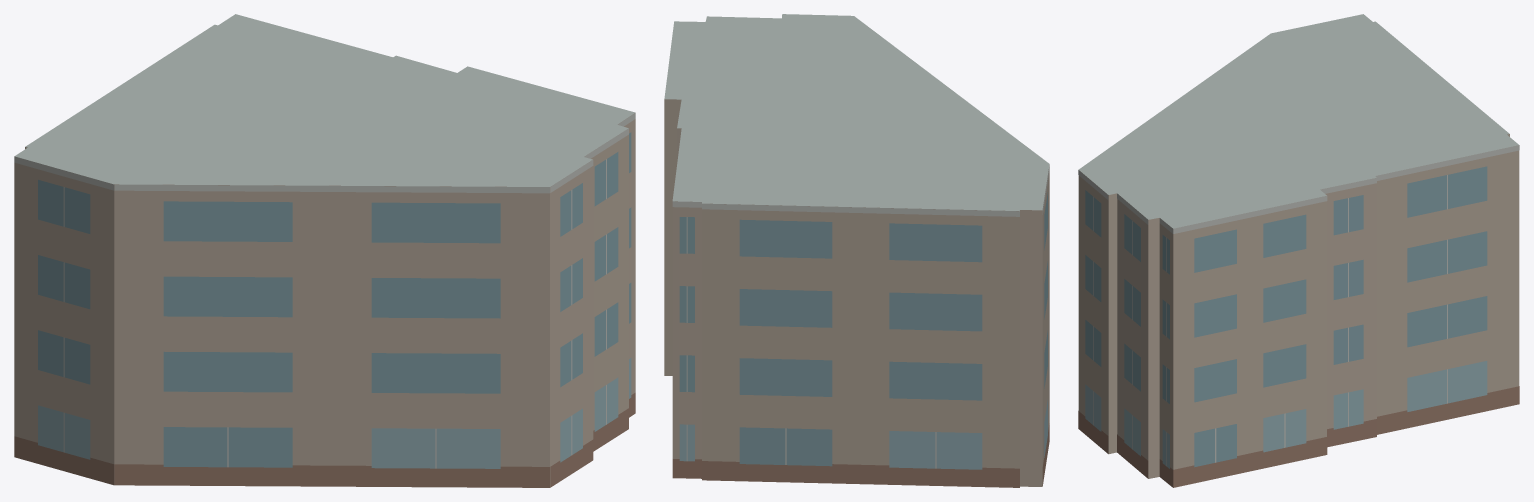
File: survey-upis-32671239.glb
The picture shows the model from 3 angles, left to right: view 1: azimuth 30°, elevation 25°; view 2: azimuth 150°, elevation 25°; view 3: azimuth 270°, elevation 25°; orthographic projection. The views are drawn at different scales.
Parts seen in each view (by area): view 1: survey-upis-32671239.tmp; view 2: survey-upis-32671239.tmp; view 3: survey-upis-32671239.tmp.
Part boxes in pixels (x1,y1,x2,y2): survey-upis-32671239.tmp: (14, 14, 635, 487); survey-upis-32671239.tmp: (664, 14, 1049, 487); survey-upis-32671239.tmp: (1078, 14, 1519, 487).
Bounding box in the file's own units: 20.8 × 11.7 × 18.05.
